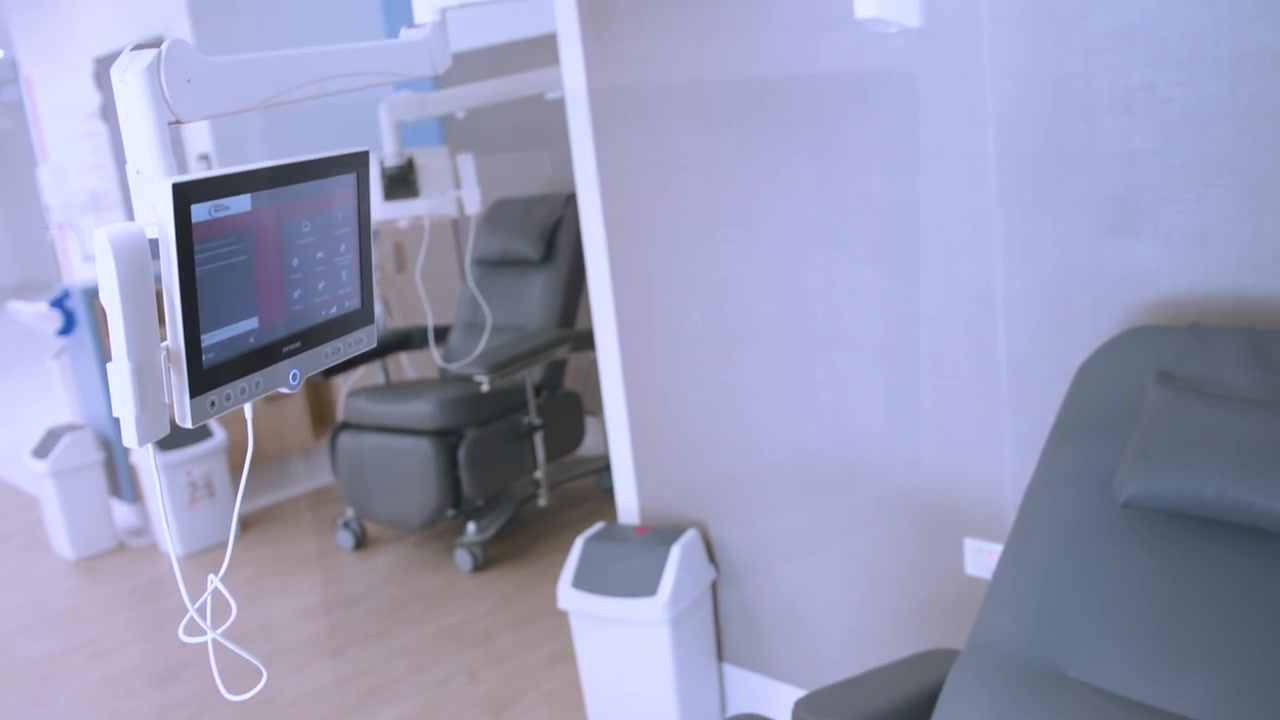bedside_monitor: (153, 148, 380, 430), (357, 145, 461, 220)
sofa: (790, 323, 1280, 720), (322, 188, 601, 572)
waste_bin: (557, 517, 728, 716), (136, 421, 244, 558), (27, 423, 125, 564)
